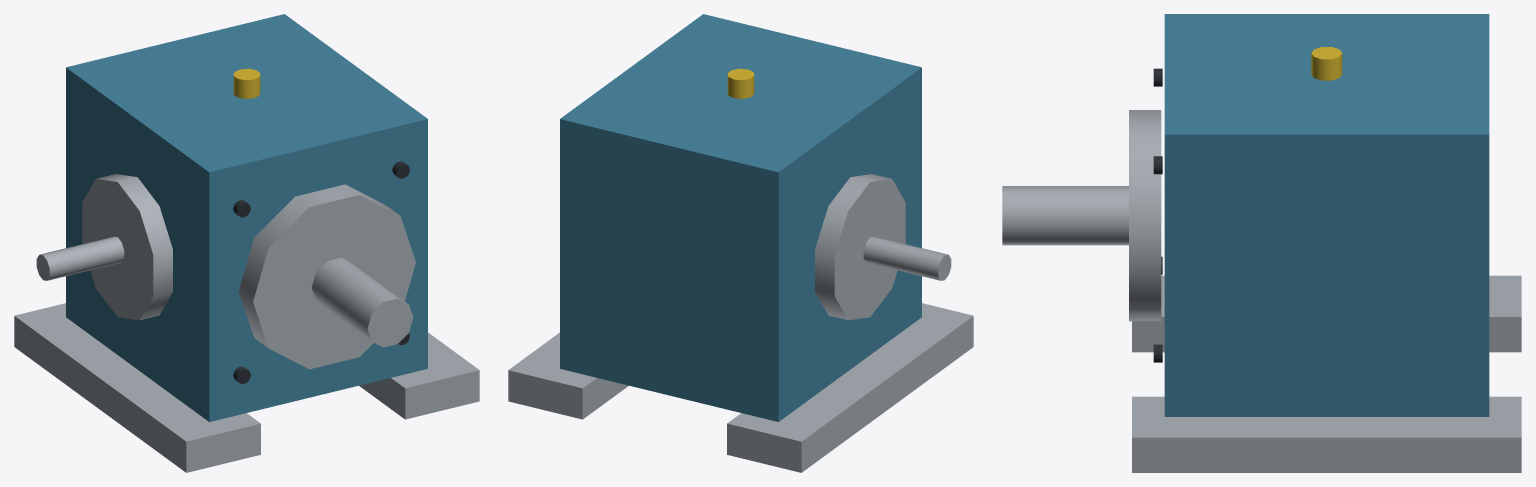
The picture shows the model from 3 angles, left to right: view 1: azimuth 30°, elevation 25°; view 2: azimuth 150°, elevation 25°; view 3: azimuth 270°, elevation 25°; orthographic projection. The views are drawn at different scales.
Parts seen in each view (by area): view 1: housing, outputFlange, foot0, inputFlange, outputShaft, foot1, inputShaft, oilplug; view 2: housing, foot0, inputFlange, foot1, inputShaft, oilplug; view 3: housing, foot1, outputShaft, outputFlange, foot0, oilplug.
Boxes of the visible parts, x1,y1,x2,y2 form: housing: [66, 14, 427, 421]; outputFlange: [238, 184, 415, 369]; foot0: [14, 303, 260, 472]; inputFlange: [82, 174, 172, 320]; outputShaft: [311, 257, 413, 347]; foot1: [359, 332, 479, 419]; inputShaft: [36, 236, 124, 280]; oilplug: [233, 68, 260, 98]; housing: [560, 14, 921, 421]; foot0: [727, 303, 973, 472]; inputFlange: [815, 174, 905, 320]; foot1: [508, 332, 628, 419]; inputShaft: [863, 236, 951, 280]; oilplug: [727, 68, 754, 98]; housing: [1164, 14, 1489, 416]; foot1: [1132, 396, 1521, 472]; outputShaft: [1002, 186, 1128, 245]; outputFlange: [1129, 110, 1161, 321]; foot0: [1132, 275, 1521, 352]; oilplug: [1311, 47, 1342, 80].
Bounding box in the file's own units: 0.3525 × 0.288 × 0.4.
